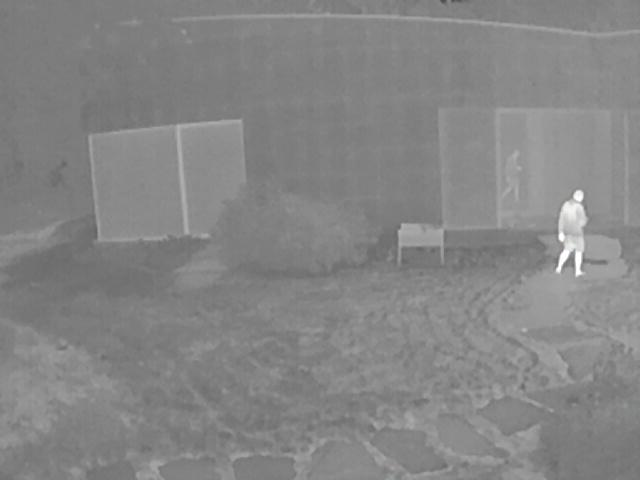person: (554, 188, 588, 278), (501, 147, 524, 203)
